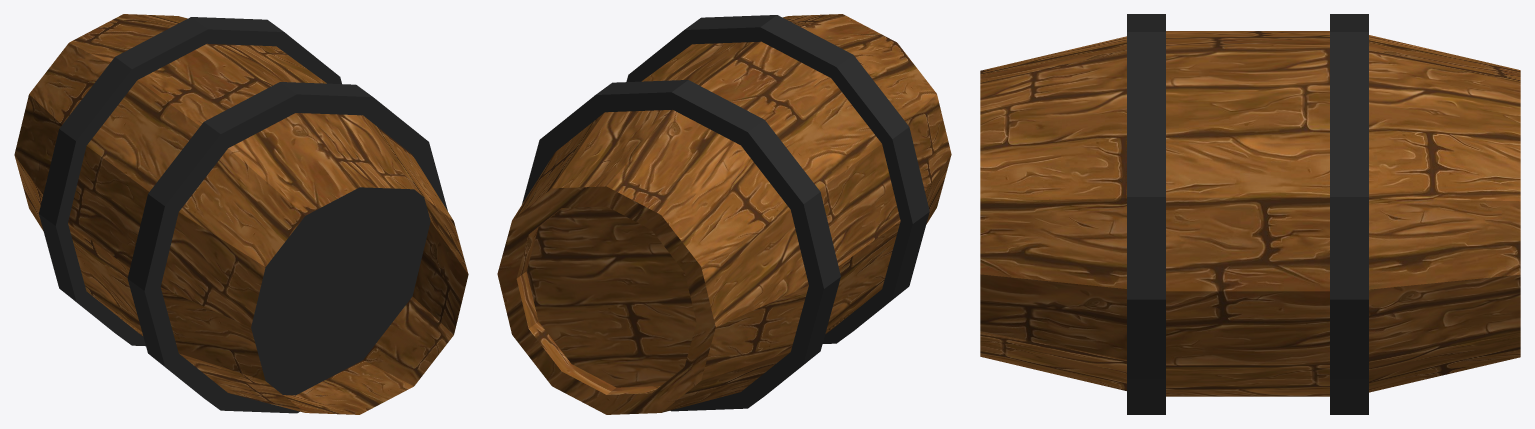
The model's file is barrel.fbx.
The picture shows the model from 3 angles, left to right: view 1: azimuth 30°, elevation 25°; view 2: azimuth 150°, elevation 25°; view 3: azimuth 270°, elevation 25°; orthographic projection. The views are drawn at different scales.
Visible parts, largest first — view 1: Cylinder; view 2: Cylinder; view 3: Cylinder.
Part boxes in pixels (box(x1,y1,x2,y2)): Cylinder: box(14, 14, 468, 414); Cylinder: box(497, 14, 951, 414); Cylinder: box(980, 14, 1520, 414).
Bounding box in the file's own units: 61.05 × 61.05 × 81.91.
